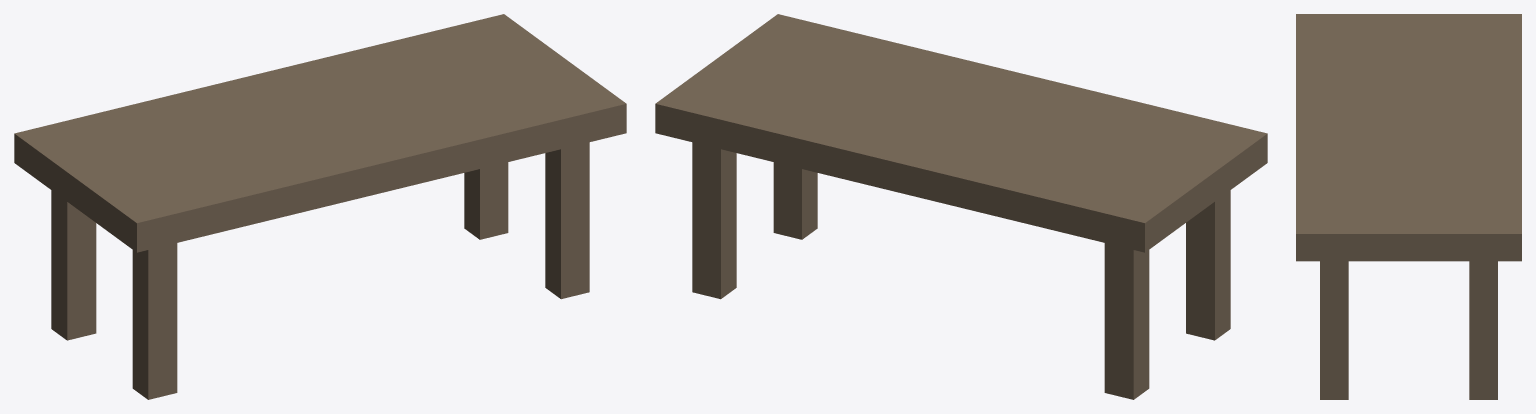
File: Bench.fbx
The picture shows the model from 3 angles, left to right: view 1: azimuth 30°, elevation 25°; view 2: azimuth 150°, elevation 25°; view 3: azimuth 270°, elevation 25°; orthographic projection. The views are drawn at different scales.
Parts seen in each view (by area): view 1: Bench; view 2: Bench; view 3: Bench.
Part boxes in pixels (x1,y1,x2,y2): Bench: (14, 14, 626, 399); Bench: (655, 14, 1267, 399); Bench: (1296, 14, 1521, 399).
Bounding box in the file's own units: 105 × 39.4 × 45.58.
